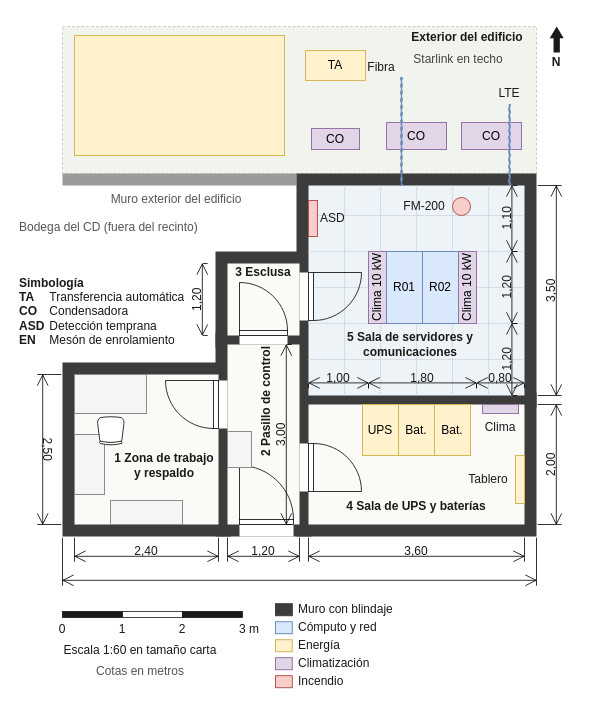
The diagram is 598 pixels wide and 712 high, and some of its shapes have lost their labels. The shapes that lost their labels are listed below. From the top down, each one's box as (x1, y1, x2, y2) in pixels, then its label:
(74, 34, 284, 156): Grupo electrógeno de 25 kVA con estanque de 24 h (losa de 3,50 × 2,00 m)
(74, 374, 146, 414): Puesto
(74, 434, 104, 494): Custodia
(226, 430, 252, 468): EN
(110, 500, 182, 524): Repuestos
(62, 537, 536, 586): 7,90 exterior
